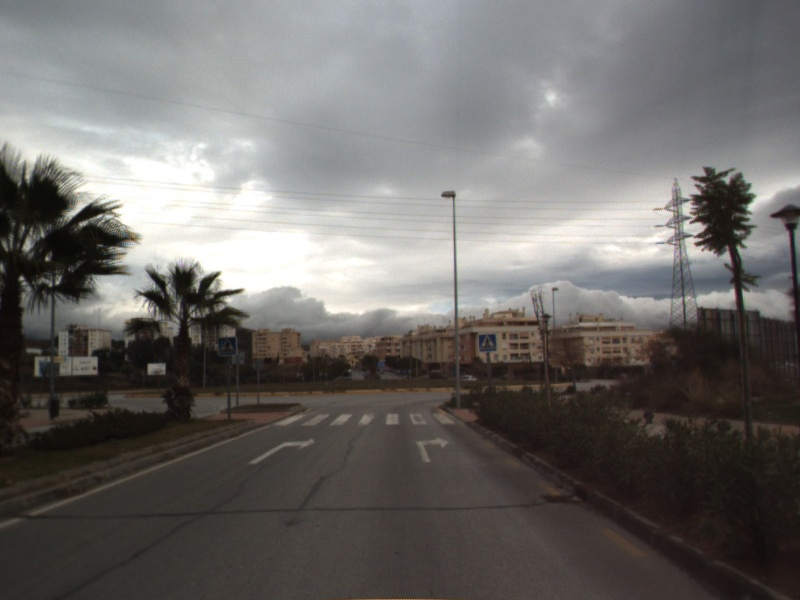RIGHT: (247, 436, 318, 466), (414, 434, 451, 464)
